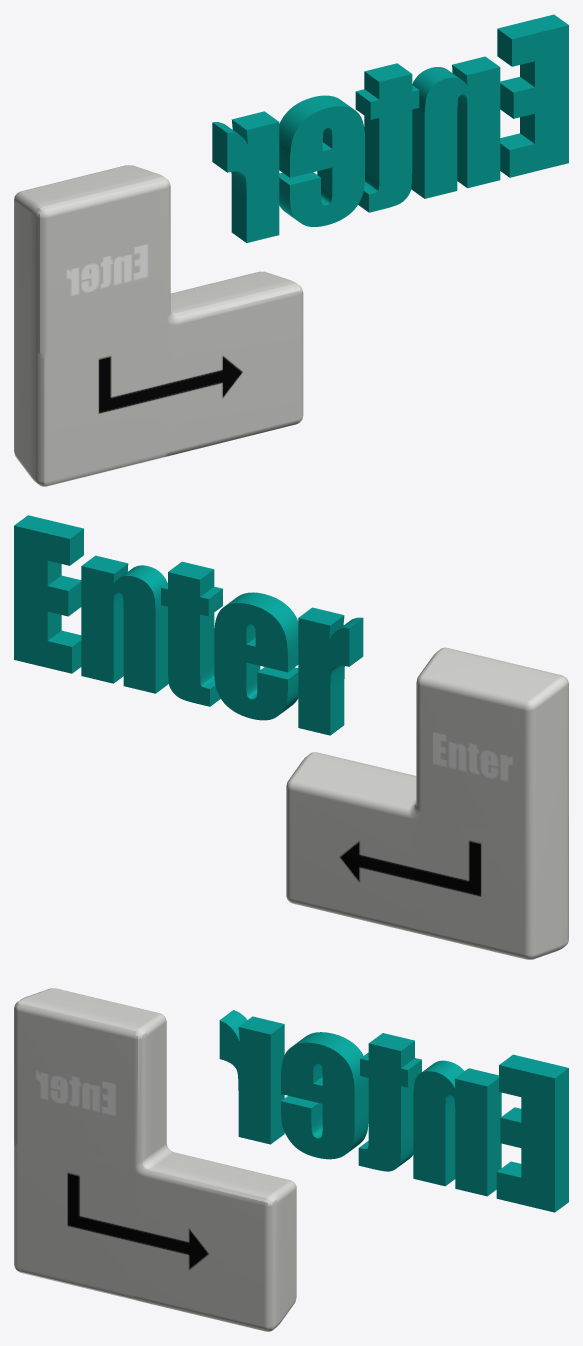
The model's file is HSBC Entorno_10_CAPAS_BOTONES Enter Balance.fbx.
The picture shows the model from 3 angles, top to bottom: view 1: azimuth 30°, elevation 25°; view 2: azimuth 150°, elevation 25°; view 3: azimuth 330°, elevation 25°; orthographic projection. The views are drawn at different scales.
Parts seen in each view (by area): view 1: enter.002, letras_enter.002; view 2: enter.002, letras_enter.002; view 3: enter.002, letras_enter.002.
Boxes of the visible parts, x1,y1,x2,y2 form: enter.002: (14, 165, 303, 486); letras_enter.002: (212, 14, 568, 242); enter.002: (286, 647, 568, 959); letras_enter.002: (14, 515, 363, 735); enter.002: (14, 988, 296, 1331); letras_enter.002: (219, 1010, 568, 1212).
Size of the model in its own units: 132 by 74.45 by 15.43.
